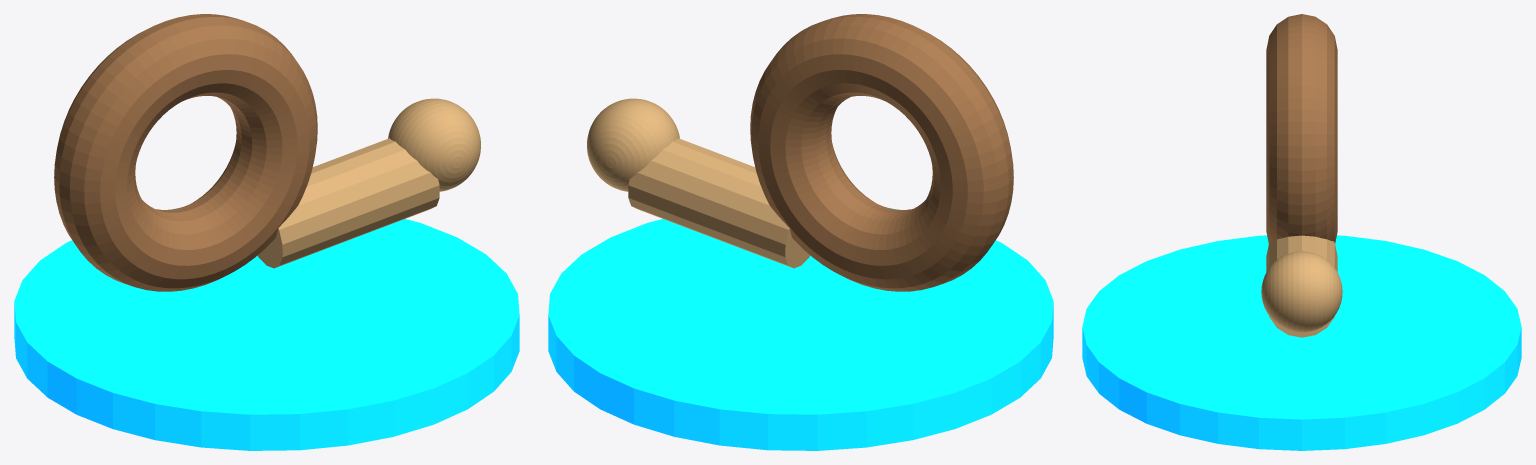
Rendered from french_escargot.glb.
3 views of the same model, side by side, from view 1: azimuth 30°, elevation 25°; view 2: azimuth 150°, elevation 25°; view 3: azimuth 270°, elevation 25° (orthographic). The views are drawn at different scales.
Visible parts, largest first — view 1: 10_18_Popular_French_Escargot_ROOT_base, 10_18_Popular_French_Escargot_part_01, 10_18_Popular_French_Escargot_part_02, 10_18_Popular_French_Escargot_part_03; view 2: 10_18_Popular_French_Escargot_ROOT_base, 10_18_Popular_French_Escargot_part_01, 10_18_Popular_French_Escargot_part_02, 10_18_Popular_French_Escargot_part_03; view 3: 10_18_Popular_French_Escargot_ROOT_base, 10_18_Popular_French_Escargot_part_01, 10_18_Popular_French_Escargot_part_03, 10_18_Popular_French_Escargot_part_02.
Boxes of the visible parts, box(x1,y1,x2,y2) form: 10_18_Popular_French_Escargot_ROOT_base: box(14, 208, 519, 450); 10_18_Popular_French_Escargot_part_01: box(54, 14, 317, 291); 10_18_Popular_French_Escargot_part_02: box(257, 138, 439, 268); 10_18_Popular_French_Escargot_part_03: box(388, 98, 480, 191); 10_18_Popular_French_Escargot_ROOT_base: box(548, 208, 1053, 450); 10_18_Popular_French_Escargot_part_01: box(750, 14, 1013, 291); 10_18_Popular_French_Escargot_part_02: box(628, 138, 810, 268); 10_18_Popular_French_Escargot_part_03: box(587, 98, 679, 191); 10_18_Popular_French_Escargot_ROOT_base: box(1082, 235, 1521, 450); 10_18_Popular_French_Escargot_part_01: box(1266, 14, 1337, 243); 10_18_Popular_French_Escargot_part_03: box(1261, 251, 1342, 332); 10_18_Popular_French_Escargot_part_02: box(1266, 235, 1337, 337).
Bounding box in the file's own units: 0.76 × 0.5691 × 0.76.
